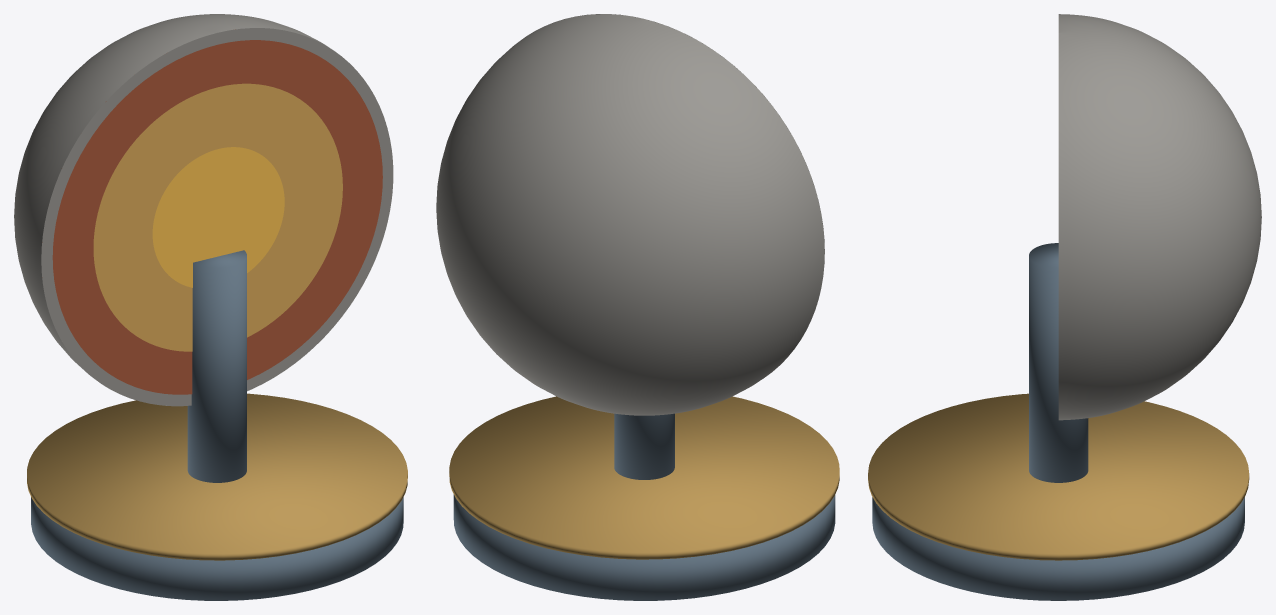
File: earthsky-layers-v1-ultra.glb
3 renders of one model, left to right at view 1: azimuth 30°, elevation 25°; view 2: azimuth 150°, elevation 25°; view 3: azimuth 270°, elevation 25°, orthographic. The views are drawn at different scales.
Visible parts, largest first — view 1: brass-trim, cut-face-1, cut-face-2, weighted-base, layer-0, cut-face-3, pedestal, cut-face-0; view 2: layer-0, brass-trim, weighted-base, pedestal; view 3: layer-0, brass-trim, weighted-base, pedestal.
Part boxes in pixels (x1,y1,x2,y2): brass-trim: (27, 393, 407, 560); cut-face-1: (52, 40, 382, 394); cut-face-2: (93, 83, 342, 351); weighted-base: (31, 497, 403, 600); layer-0: (14, 14, 372, 405); cut-face-3: (152, 147, 284, 287); pedestal: (187, 250, 246, 482); cut-face-0: (41, 28, 393, 406); layer-0: (436, 14, 824, 415); brass-trim: (449, 396, 839, 559); weighted-base: (453, 494, 835, 600); pedestal: (614, 413, 674, 479); layer-0: (1058, 14, 1261, 420); brass-trim: (868, 393, 1249, 560); weighted-base: (872, 497, 1244, 600); pedestal: (1029, 243, 1088, 482).
Bounding box in the file's own units: 0.48 × 0.6375 × 0.465.
